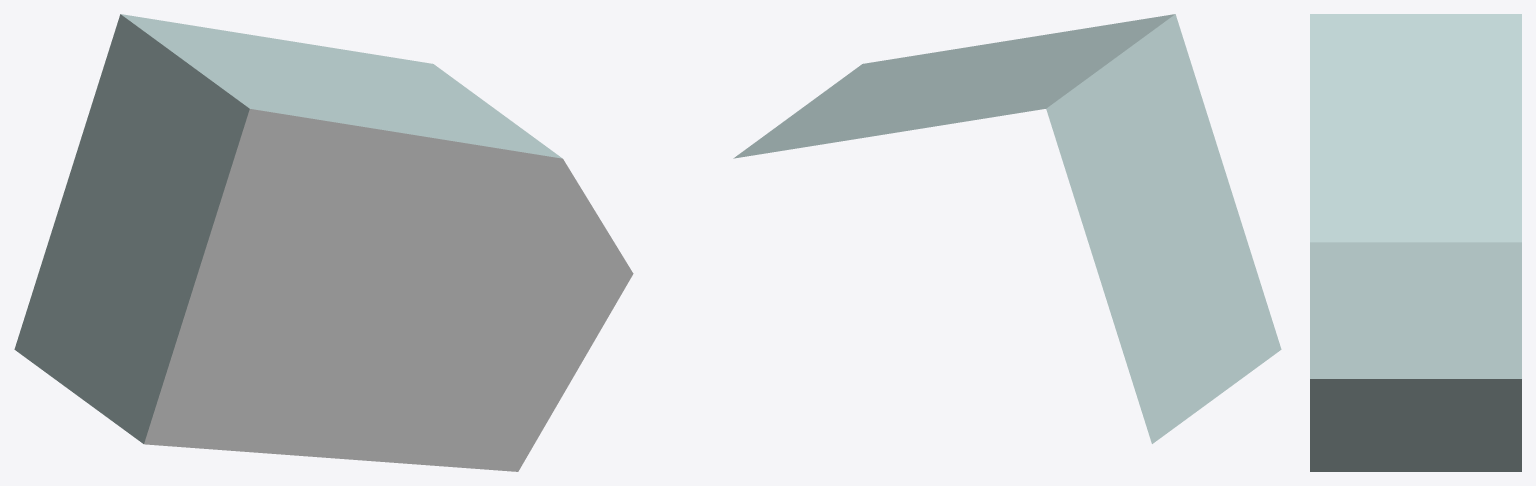
3 renders of one model, left to right at view 1: azimuth 30°, elevation 25°; view 2: azimuth 150°, elevation 25°; view 3: azimuth 270°, elevation 25°, orthographic. The views are drawn at different scales.
Visible parts, largest first — view 1: 0_3_1_2_3_3_3_2_0; view 2: 0_3_1_2_3_3_3_2_0; view 3: 0_3_1_2_3_3_3_2_0.
Boxes of the visible parts, <box> form: 0_3_1_2_3_3_3_2_0: <box>14,14,633,471</box>; 0_3_1_2_3_3_3_2_0: <box>733,14,1281,443</box>; 0_3_1_2_3_3_3_2_0: <box>1310,14,1521,471</box>.
Bounding box in the file's own units: 6.55 × 5.48 × 3.
